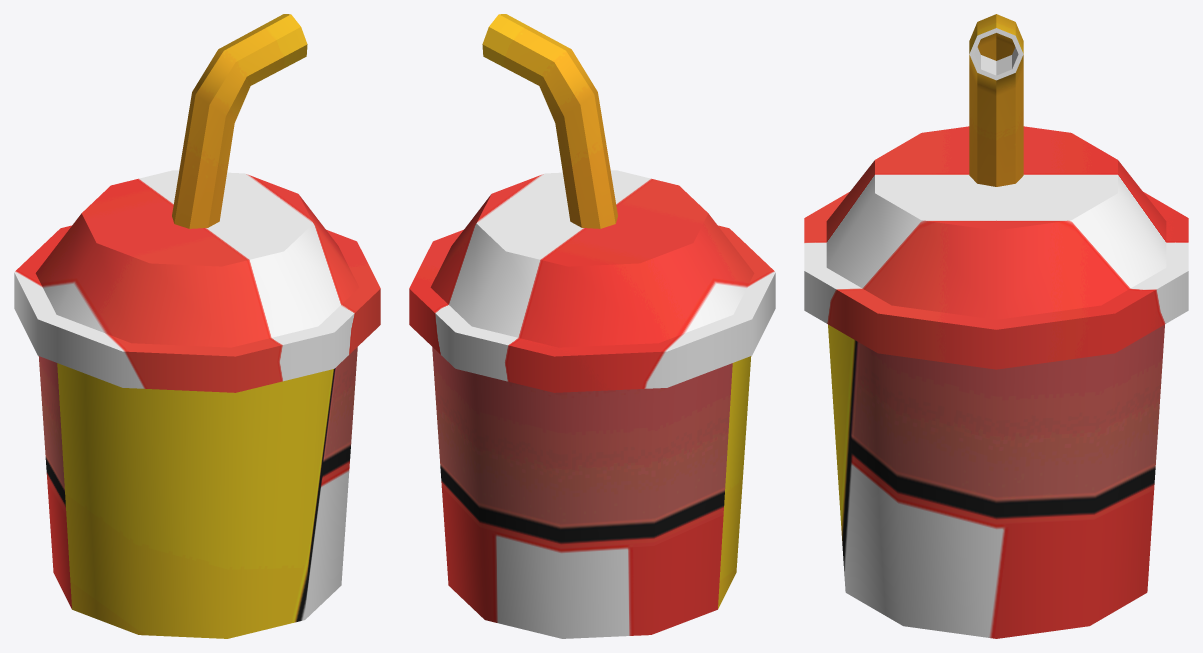
The model's file is Soda.obj.
3 views of the same model, side by side, from view 1: azimuth 30°, elevation 25°; view 2: azimuth 150°, elevation 25°; view 3: azimuth 270°, elevation 25° (orthographic). The views are drawn at different scales.
Visible parts, largest first — view 1: pCylinder9; view 2: pCylinder9; view 3: pCylinder9.
Part boxes in pixels (box(x1,y1,x2,y2)): pCylinder9: box(14, 14, 380, 638); pCylinder9: box(409, 14, 775, 638); pCylinder9: box(804, 14, 1188, 638).
Bounding box in the file's own units: 50.76 × 82.37 × 48.28.
